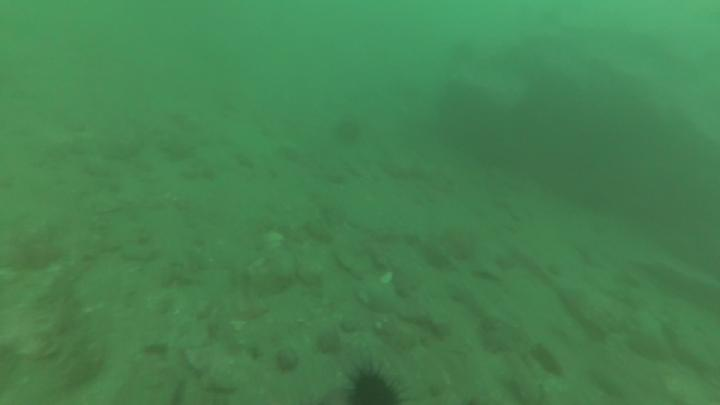echinus: (341, 357, 407, 405), (444, 35, 481, 73), (330, 117, 364, 151)
